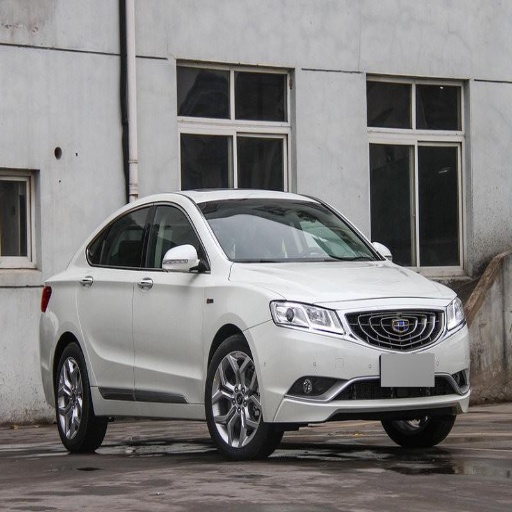back_right_door: (80, 203, 153, 402)
front_bumper: (251, 298, 471, 423)
front_right_door: (135, 201, 205, 402)
front_right_light: (270, 300, 345, 333)
